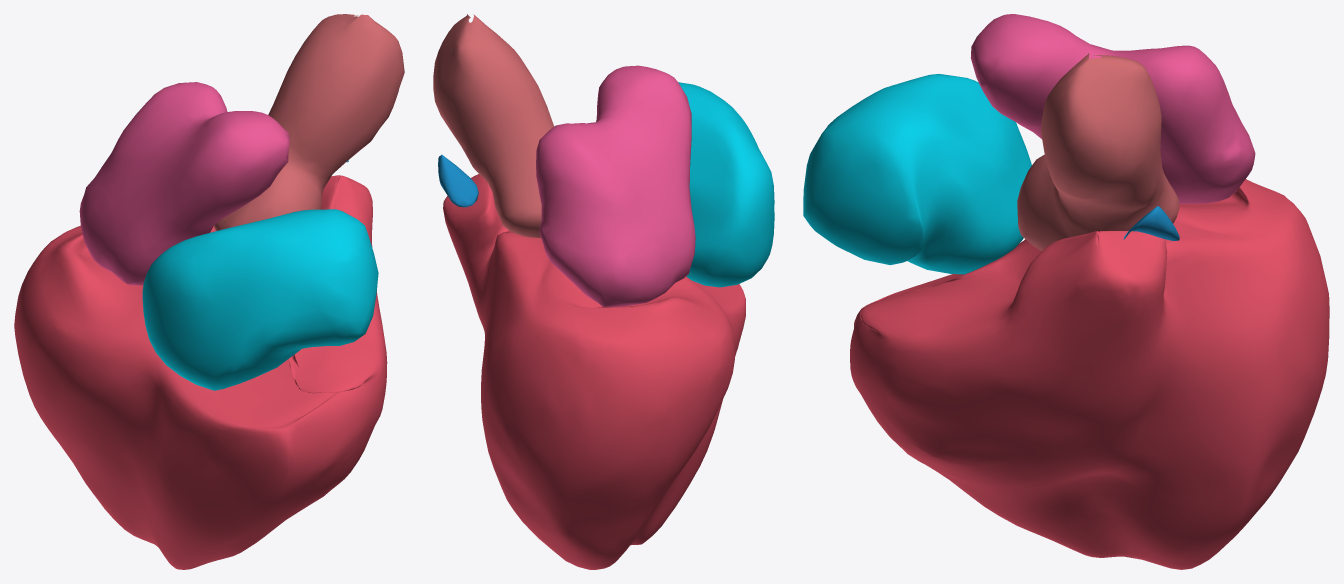
File: frame_21.glb
3 renders of one model, left to right at view 1: azimuth 30°, elevation 25°; view 2: azimuth 150°, elevation 25°; view 3: azimuth 270°, elevation 25°, orthographic. The views are drawn at different scales.
Visible parts, largest first — view 1: Renderer Node; view 2: Renderer Node; view 3: Renderer Node.
Part boxes in pixels (x1,y1,x2,y2): Renderer Node: (14, 14, 404, 569); Renderer Node: (433, 14, 774, 569); Renderer Node: (803, 14, 1329, 569).
Bounding box in the file's own units: 103 × 154 × 122.
